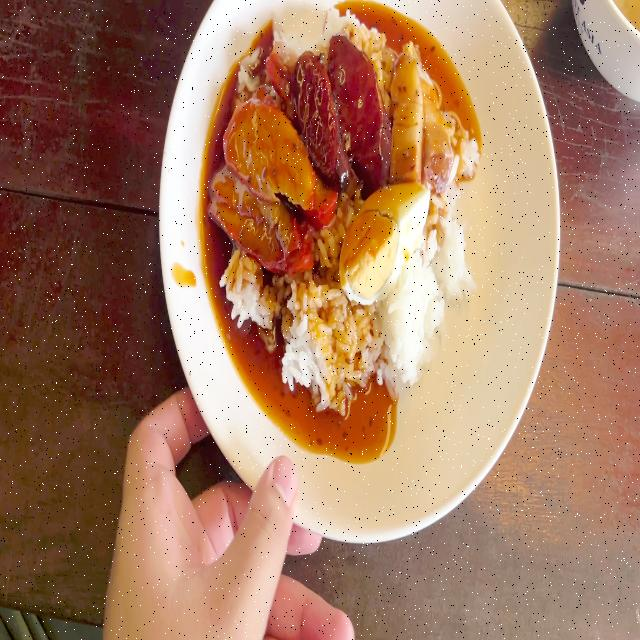boiled_egg: (339, 184, 426, 298)
chainese_sausage: (301, 34, 386, 188)
crispy_pork: (392, 47, 453, 186)
red_pork: (220, 110, 316, 268)
red_pork_and_crispy_pork: (223, 14, 474, 401)
rice: (288, 288, 375, 394), (396, 283, 437, 380), (226, 257, 266, 320), (439, 216, 462, 284)
